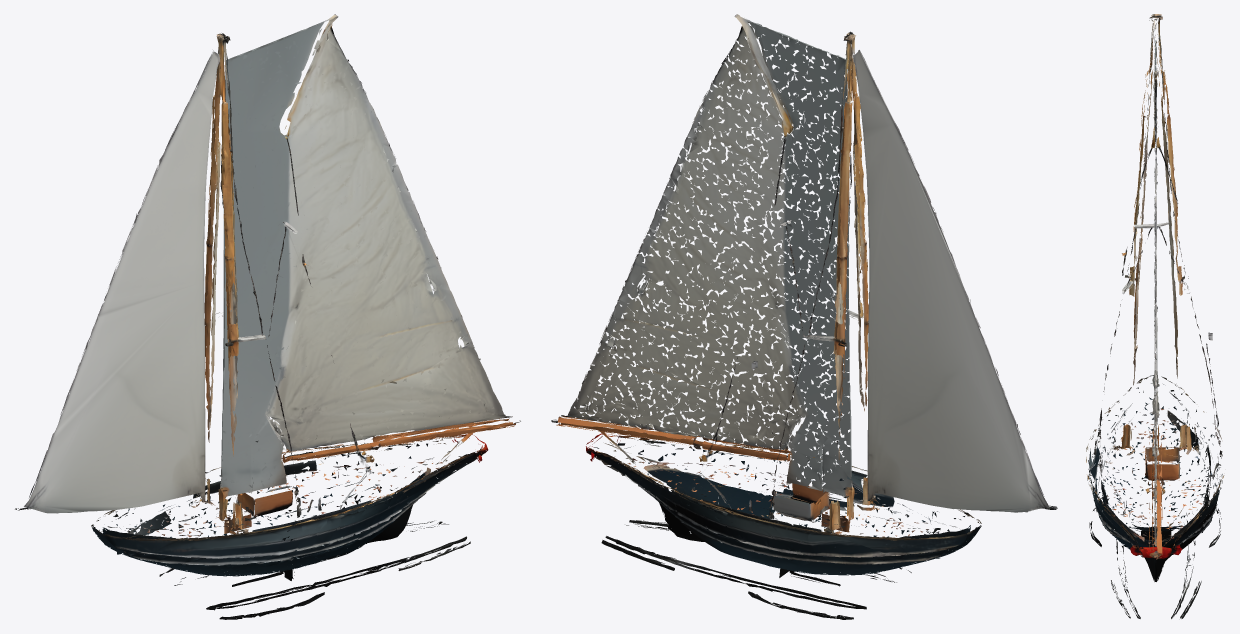
The model's file is sailboat_1788470797_35643176.glb.
3 views of the same model, side by side, from view 1: azimuth 30°, elevation 25°; view 2: azimuth 150°, elevation 25°; view 3: azimuth 270°, elevation 25° (orthographic). The views are drawn at different scales.
Visible parts, largest first — view 1: Hero; view 2: Hero; view 3: Hero.
Boxes of the visible parts, x1,y1,x2,y2 form: Hero: (15, 14, 520, 619); Hero: (551, 14, 1057, 619); Hero: (1086, 14, 1224, 618).
Bounding box in the file's own units: 5.72 × 6.02 × 1.52.
1 material, 1 textured.
